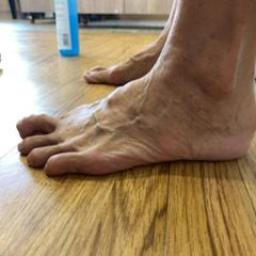Lateral View -Left Foot-: (3, 45, 255, 197)
